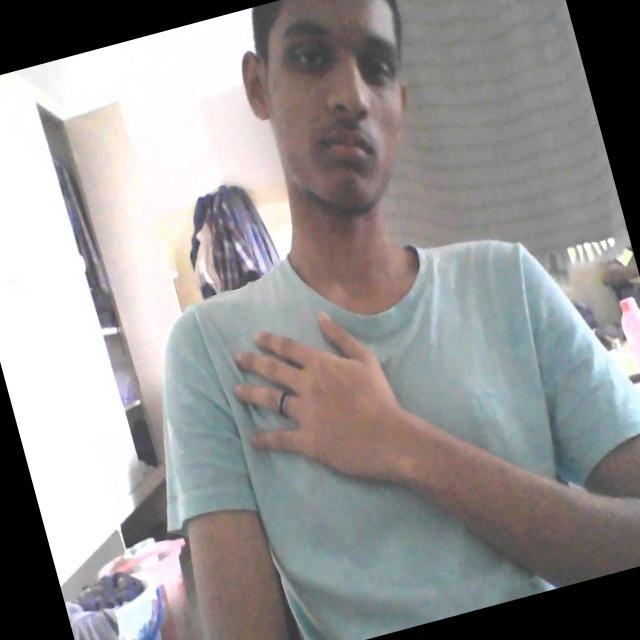Please: (224, 282, 468, 530)
